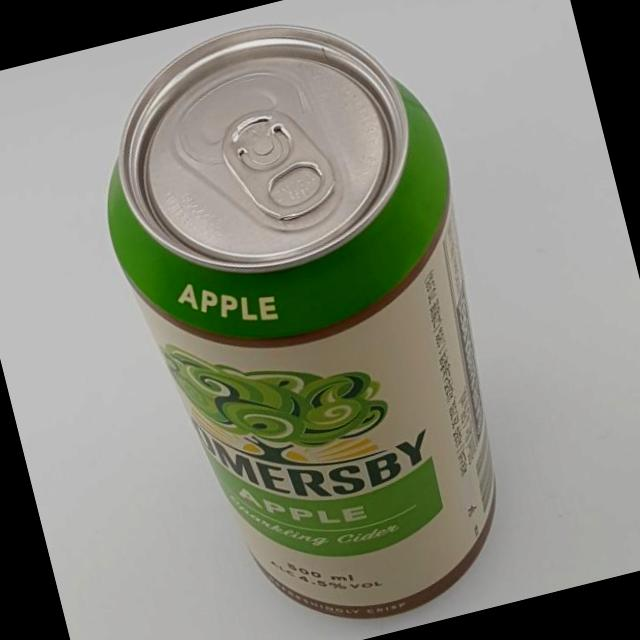can: (62, 0, 557, 640)
